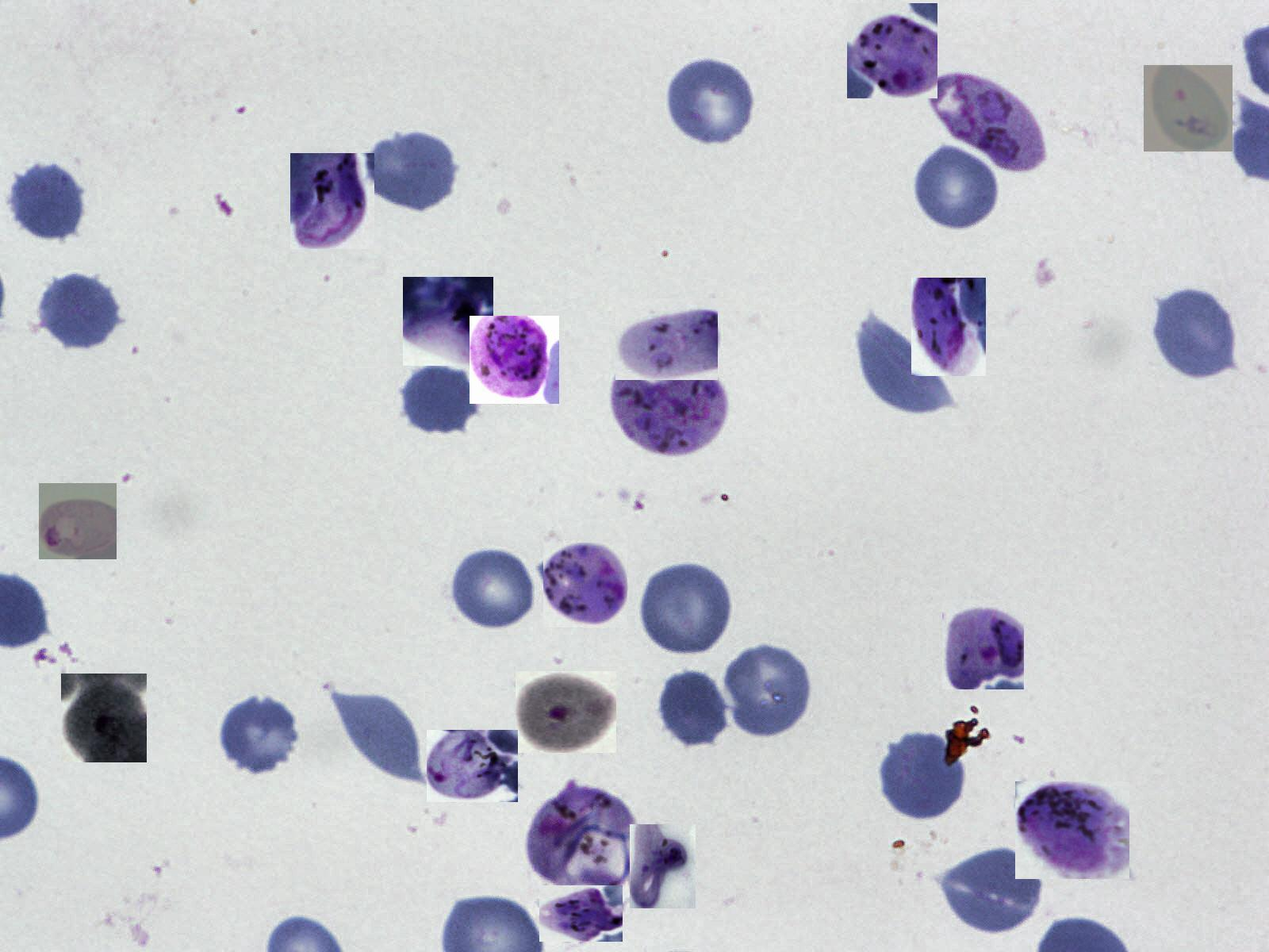Infected: (523, 780, 642, 889), (925, 73, 1048, 175), (1015, 781, 1129, 879), (611, 367, 727, 458), (847, 3, 937, 98), (616, 298, 719, 380), (516, 671, 616, 753), (290, 153, 374, 249), (403, 277, 493, 366), (470, 317, 559, 405), (1144, 65, 1233, 152), (61, 674, 147, 762), (911, 278, 986, 376), (942, 600, 1024, 689), (543, 543, 627, 628), (427, 730, 518, 802), (39, 483, 117, 559), (630, 824, 696, 908), (539, 885, 623, 942)
Uninfected: (935, 847, 1047, 938), (855, 309, 953, 413), (723, 639, 815, 741), (637, 559, 732, 655), (332, 688, 425, 785), (1151, 284, 1240, 382), (665, 55, 757, 148), (911, 144, 1003, 234), (361, 129, 459, 212), (879, 730, 967, 822), (448, 545, 539, 631), (215, 692, 301, 778), (36, 270, 121, 351), (10, 159, 88, 243), (655, 668, 730, 751), (401, 368, 484, 432)
